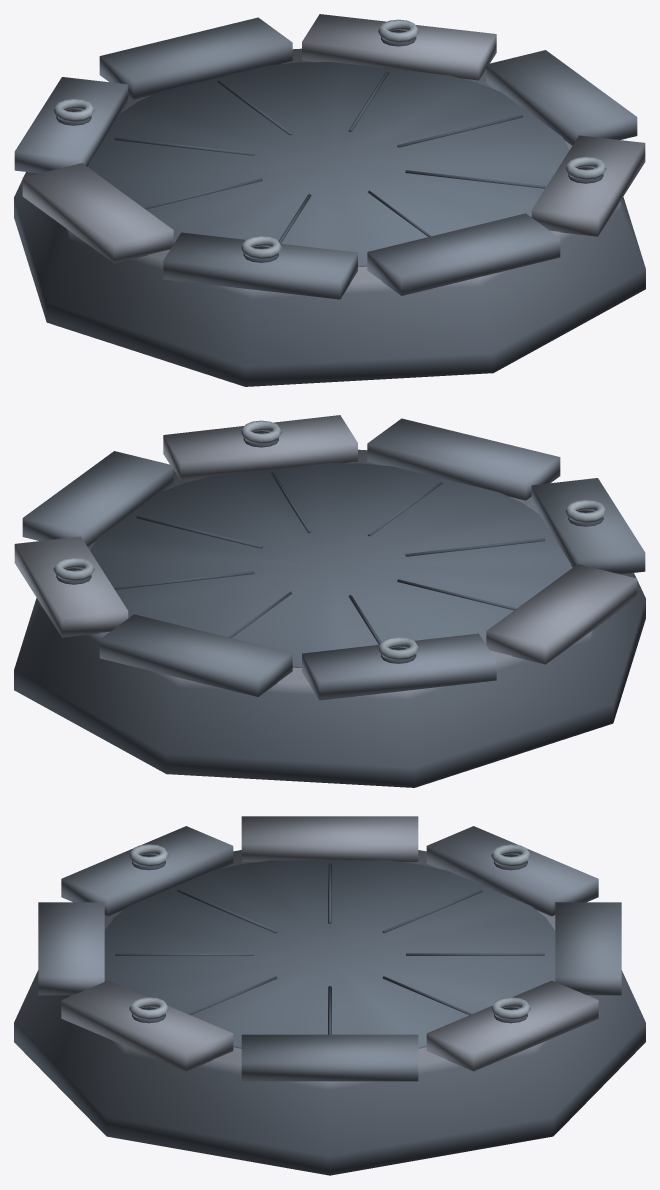
Rendered from costa-hueco.glb.
3 views of the same model, one above another, from view 1: azimuth 30°, elevation 25°; view 2: azimuth 150°, elevation 25°; view 3: azimuth 270°, elevation 25° (orthographic). The views are drawn at different scales.
Visible parts, largest first — view 1: Dais; view 2: Dais; view 3: Dais.
Boxes of the visible parts, x1,y1,x2,y2 form: Dais: (14,14,645,386); Dais: (14,415,645,787); Dais: (14,816,645,1175).
Bounding box in the file's own units: 1 × 0.1989 × 1.
